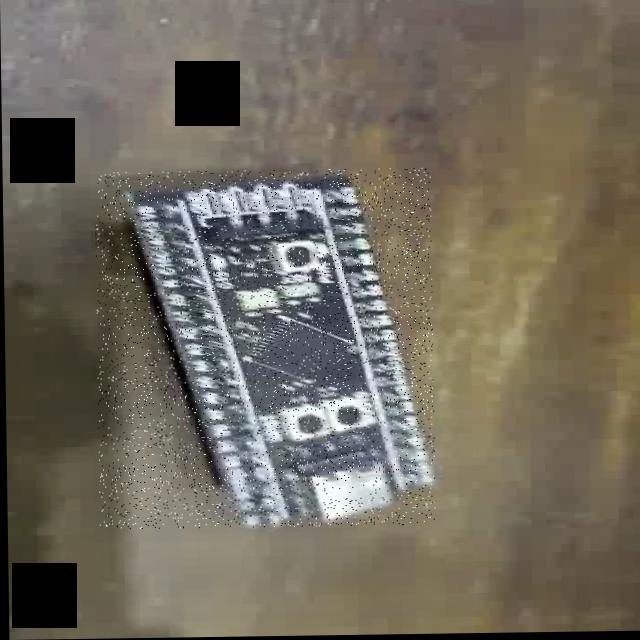stm32: (94, 169, 434, 530)
